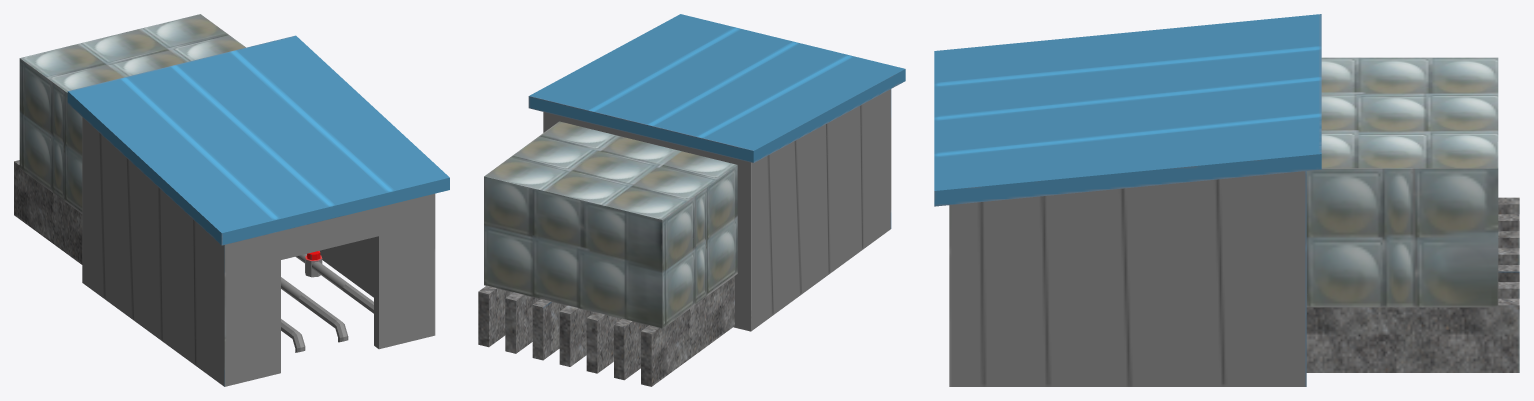
Rendered from SBSX-DF.obj.
3 renders of one model, left to right at view 1: azimuth 30°, elevation 25°; view 2: azimuth 150°, elevation 25°; view 3: azimuth 270°, elevation 25°, orthographic. The views are drawn at different scales.
Visible parts, largest first — view 1: SBSX_DF; view 2: SBSX_DF; view 3: SBSX_DF.
Part boxes in pixels (x1,y1,x2,y2): SBSX_DF: (14,14,449,386); SBSX_DF: (478,14,905,386); SBSX_DF: (934,14,1519,386).
Bounding box in the file's own units: 4832 × 3836 × 8533.
Materials: 1 (1 with a texture image).
